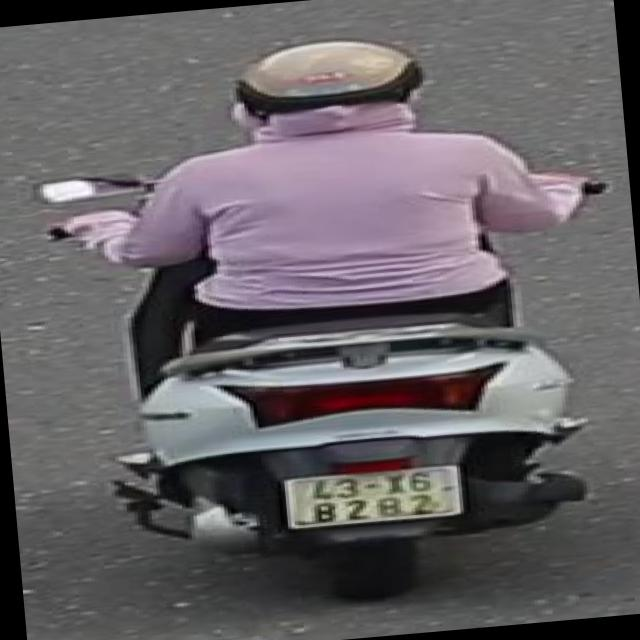LP: (274, 457, 472, 536)
helmet: (223, 27, 436, 154)
